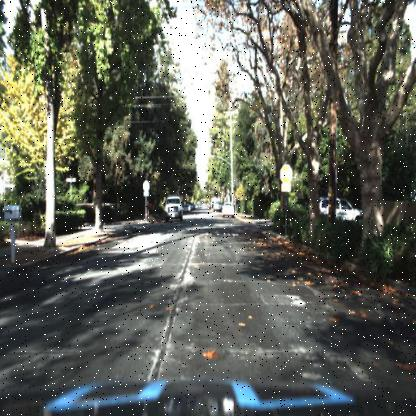car: (319, 188, 363, 230), (162, 191, 184, 223), (220, 199, 236, 219), (220, 196, 234, 214)
